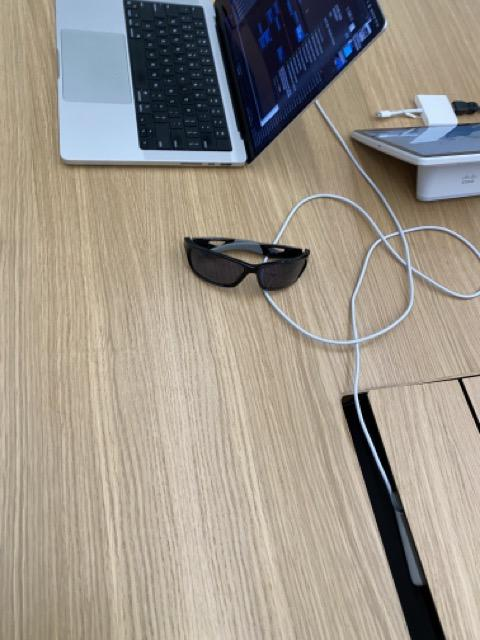Sunglasses: (184, 233, 312, 293)
